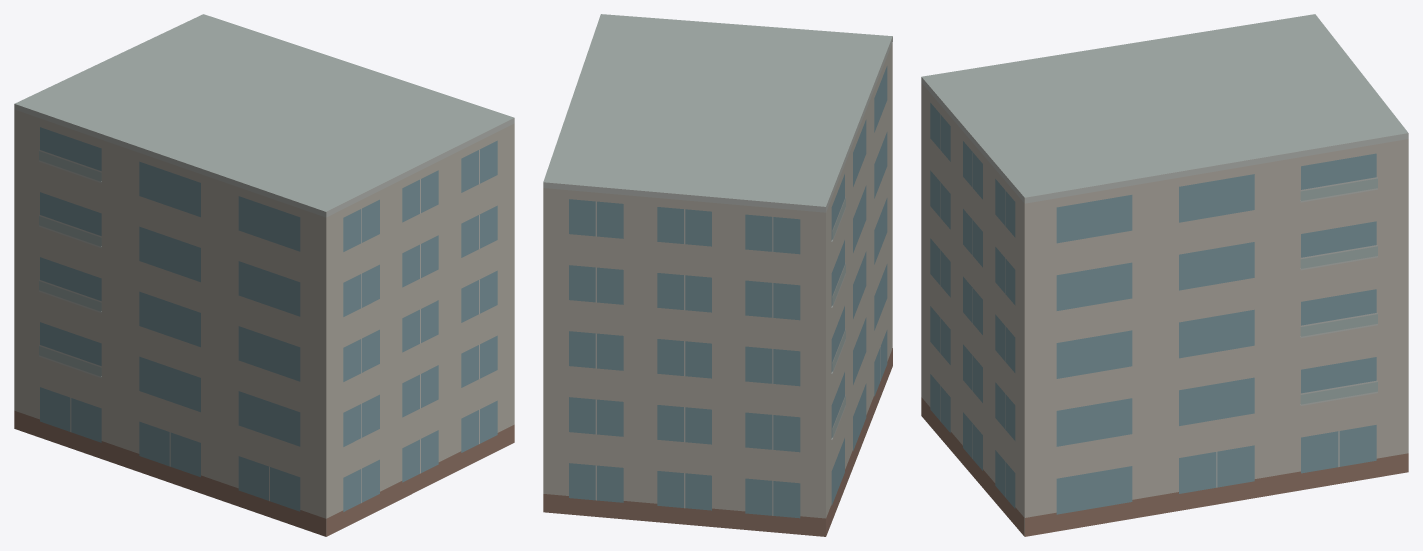
Rendered from survey-upis-32863627.glb.
3 views of the same model, side by side, from view 1: azimuth 30°, elevation 25°; view 2: azimuth 150°, elevation 25°; view 3: azimuth 270°, elevation 25° (orthographic). The views are drawn at different scales.
Parts seen in each view (by area): view 1: survey-upis-32863627.tmp; view 2: survey-upis-32863627.tmp; view 3: survey-upis-32863627.tmp.
Boxes of the visible parts, bbox=[...] form: survey-upis-32863627.tmp: bbox=[14, 14, 514, 536]; survey-upis-32863627.tmp: bbox=[543, 14, 892, 536]; survey-upis-32863627.tmp: bbox=[921, 14, 1408, 536].
Bounding box in the file's own units: 16.26 × 13.98 × 18.22.
